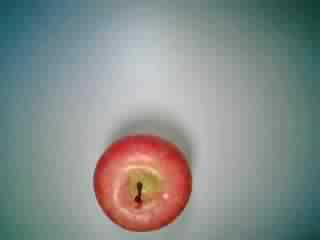apple: (89, 134, 193, 235)
